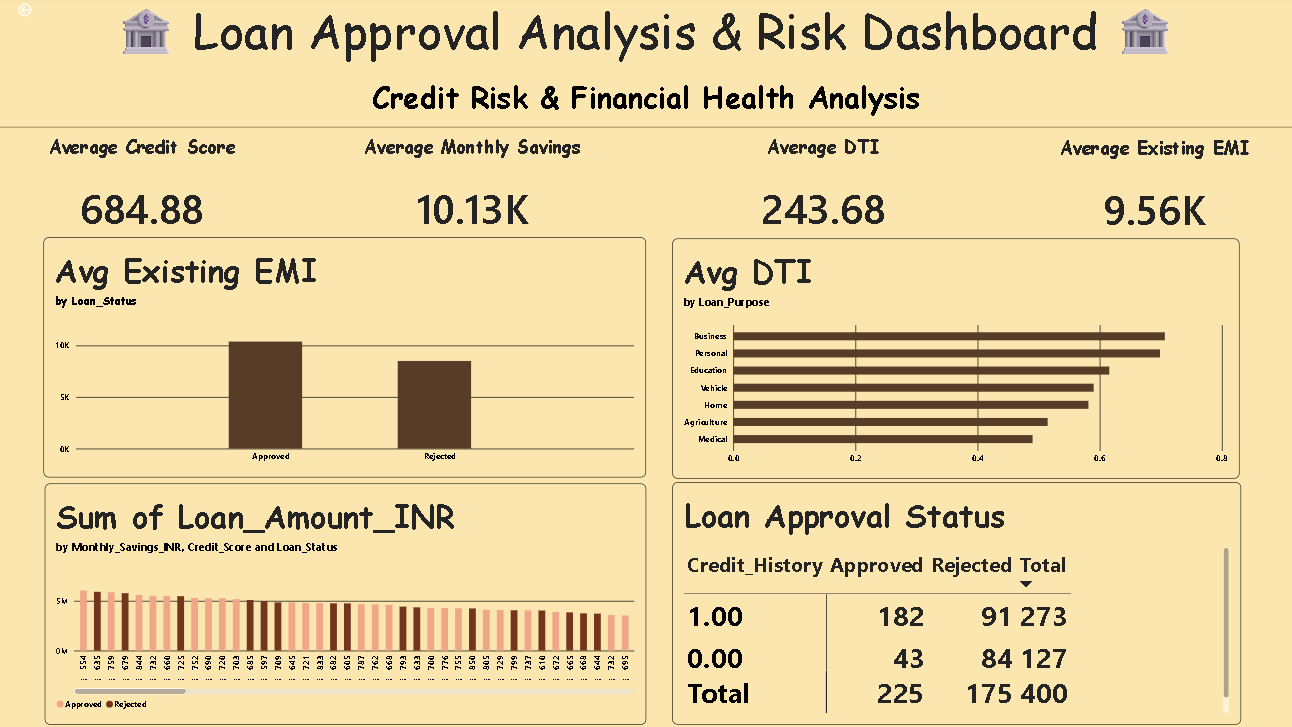

The dashboard page shown, as its layout file describes it:
{"tool":"powerbi","page":{"name":"Credit Risk & Financial Health Analysis","canvas":[1920,1080],"ordinal":1},"visuals":[{"type":"textbox","title":"🏦 Loan Approval Analysis & Risk Dashboard 🏦","box":[9.2,0,1910.4,202.5],"z":0},{"type":"cardVisual","title":"Average Credit Score","fields":{"Data":["loan_approval_analysis_400_rows_v2.Avg Credit Score"]},"box":[77.3,202.5,290.8,165.6],"z":1000},{"type":"cardVisual","title":"Average DTI","fields":{"Data":["Sum(loan_approval_analysis_400_rows_v2.Debt_To_Income_Ratio)"]},"box":[1080.4,202.5,290.8,165.6],"z":2000},{"type":"cardVisual","title":"Average Existing EMI","fields":{"Data":["loan_approval_analysis_400_rows_v2.Avg Existing EMI"]},"box":[1568.1,204.3,290.8,163.8],"z":3000},{"type":"cardVisual","title":"Average Monthly Savings","fields":{"Data":["loan_approval_analysis_400_rows_v2.Avg Monthly Savings"]},"box":[539.3,202.5,338.7,165.6],"z":4000},{"type":"columnChart","fields":{"Category":["loan_approval_analysis_400_rows_v2.Monthly_Savings_INR","loan_approval_analysis_400_rows_v2.Credit_Score"],"Series":["loan_approval_analysis_400_rows_v2.Loan_Status"],"Y":["Sum(loan_approval_analysis_400_rows_v2.Loan_Amount_INR)"]},"box":[79.1,717.8,885.3,355.2],"z":5000},{"type":"clusteredBarChart","fields":{"Category":["loan_approval_analysis_400_rows_v2.Loan_Purpose"],"Y":["loan_approval_analysis_400_rows_v2.Avg DTI"]},"box":[1003.1,357.1,835.6,353.4],"z":6000},{"type":"clusteredColumnChart","fields":{"Category":["loan_approval_analysis_400_rows_v2.Loan_Status"],"Y":["loan_approval_analysis_400_rows_v2.Avg Existing EMI"]},"box":[77.3,355.2,887.1,353.4],"z":7000},{"type":"pivotTable","title":"Loan Approval Status","fields":{"Columns":["loan_approval_analysis_400_rows_v2.Loan_Status"],"Rows":["loan_approval_analysis_400_rows_v2.Credit_History"],"Values":["loan_approval_analysis_400_rows_v2.Total Applications"]},"box":[1003.1,716,837.4,357.1],"z":8000},{"type":"actionButton","box":[0,0,100,40],"z":9000}]}

Visuals, with their boxes in screenshot pixels (x1, y1, x2, y2), scaled from the page's 1920x1080 canvas onto the 1292x727 screenshot:
"🏦 Loan Approval Analysis & Risk Dashboard 🏦" textbox: crop(6, 0, 1291, 136)
"Average Credit Score" cardVisual: crop(52, 136, 248, 248)
"Average DTI" cardVisual: crop(727, 136, 923, 248)
"Average Existing EMI" cardVisual: crop(1055, 138, 1251, 248)
"Average Monthly Savings" cardVisual: crop(363, 136, 591, 248)
columnChart - loan_approval_analysis_400_rows_v2.Monthly_Savings_INR x loan_approval_analysis_400_rows_v2.Credit_Score: crop(53, 483, 649, 722)
clusteredBarChart - loan_approval_analysis_400_rows_v2.Loan_Purpose x loan_approval_analysis_400_rows_v2.Avg DTI: crop(675, 240, 1237, 478)
clusteredColumnChart - loan_approval_analysis_400_rows_v2.Loan_Status x loan_approval_analysis_400_rows_v2.Avg Existing EMI: crop(52, 239, 649, 477)
"Loan Approval Status" pivotTable: crop(675, 482, 1239, 722)
actionButton: crop(0, 0, 67, 27)
